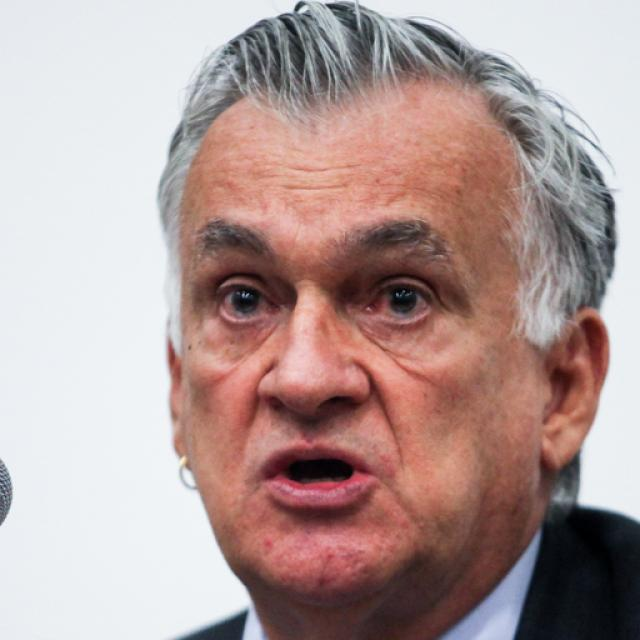surprise: (178, 74, 542, 605)
